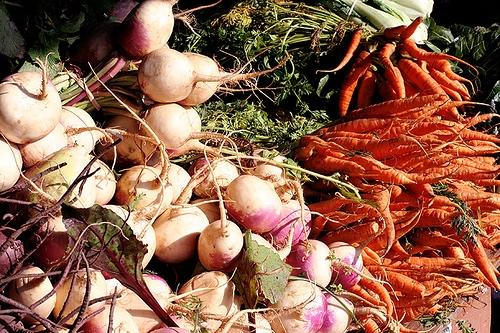carrot: (398, 58, 468, 123), (315, 148, 417, 184), (358, 198, 424, 251), (402, 38, 478, 82), (326, 136, 443, 162), (346, 94, 448, 122), (432, 194, 480, 249), (372, 268, 426, 312), (338, 51, 374, 116), (316, 28, 362, 74), (467, 235, 500, 290), (360, 266, 394, 319), (429, 59, 478, 95), (426, 62, 471, 99), (372, 189, 395, 259), (430, 112, 481, 142), (316, 222, 379, 246), (414, 229, 468, 257), (305, 155, 382, 174), (308, 211, 358, 240), (420, 162, 500, 180), (312, 118, 394, 135), (389, 98, 451, 120), (393, 165, 461, 185), (391, 298, 442, 324), (298, 136, 356, 156), (398, 148, 450, 170), (306, 197, 364, 215), (438, 83, 466, 119), (389, 289, 442, 308), (413, 208, 463, 228), (306, 176, 365, 192), (371, 144, 430, 160), (438, 128, 500, 143), (345, 284, 387, 306), (351, 243, 389, 266), (408, 155, 456, 173), (325, 212, 368, 231), (296, 141, 332, 162), (373, 71, 398, 101), (384, 65, 406, 99), (357, 70, 376, 109), (470, 266, 498, 292), (398, 317, 443, 333), (378, 43, 398, 79), (406, 256, 476, 266), (450, 158, 498, 172), (405, 172, 457, 184), (459, 113, 500, 128), (447, 189, 494, 202), (399, 16, 423, 40), (394, 210, 422, 230), (444, 146, 500, 156), (315, 131, 377, 140), (404, 182, 436, 199), (406, 280, 438, 297), (380, 258, 422, 270), (400, 242, 441, 254), (399, 136, 448, 146), (364, 266, 422, 274), (439, 282, 458, 304), (403, 81, 428, 97), (438, 276, 478, 286), (380, 125, 406, 140), (391, 240, 412, 258), (438, 246, 466, 259), (464, 140, 500, 150), (384, 25, 408, 40), (446, 183, 479, 193), (460, 156, 494, 165), (434, 224, 458, 236), (401, 161, 425, 173), (478, 190, 500, 203), (480, 236, 496, 253), (374, 248, 396, 259), (390, 209, 415, 218), (388, 202, 412, 211), (470, 179, 500, 186), (421, 227, 443, 236), (432, 205, 458, 212), (363, 320, 378, 332), (481, 213, 499, 223), (366, 288, 380, 300), (476, 222, 500, 229), (489, 236, 500, 246), (460, 82, 469, 94), (480, 229, 490, 239), (398, 272, 421, 276), (420, 134, 438, 139), (480, 206, 499, 210), (442, 272, 456, 276), (492, 165, 500, 170)
